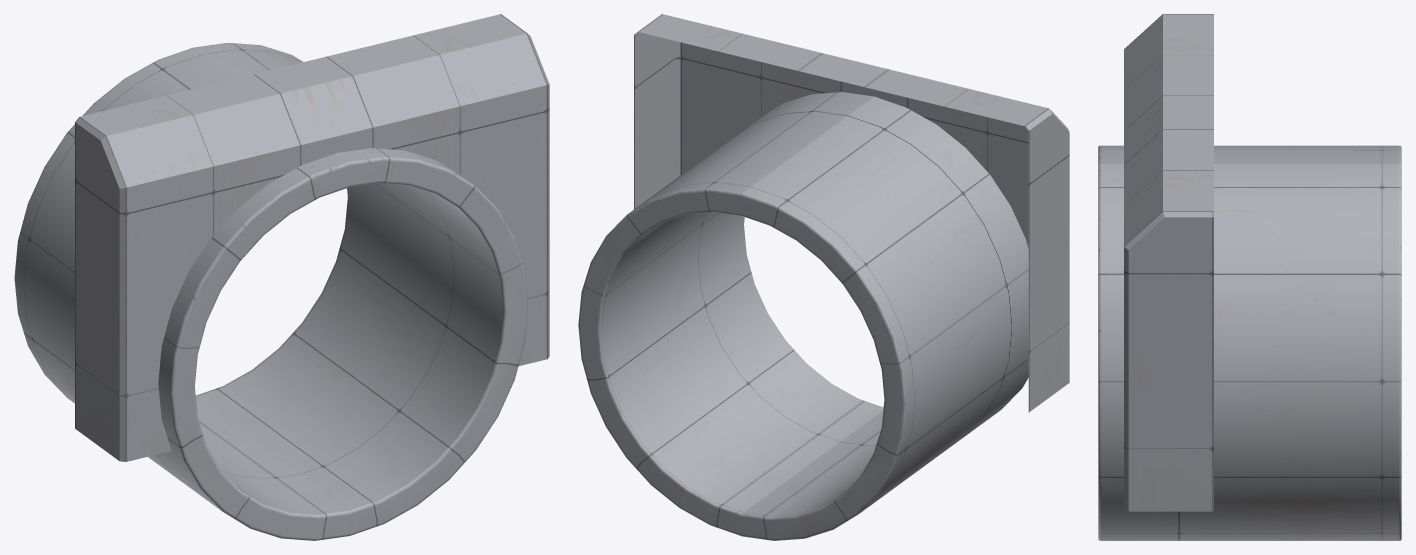
Rendered from DomeEntryWay.dae.
The picture shows the model from 3 angles, left to right: view 1: azimuth 30°, elevation 25°; view 2: azimuth 150°, elevation 25°; view 3: azimuth 270°, elevation 25°; orthographic projection. The views are drawn at different scales.
Visible parts, largest first — view 1: DomeEntryWay; view 2: DomeEntryWay; view 3: DomeEntryWay.
Part boxes in pixels (left/top/right/bottom): DomeEntryWay: left=14, top=14, right=549, bottom=540; DomeEntryWay: left=578, top=14, right=1069, bottom=540; DomeEntryWay: left=1098, top=14, right=1401, bottom=540.
Bounding box in the file's own units: 13.89 × 8.85 × 13.19.
1 material, 1 textured.
